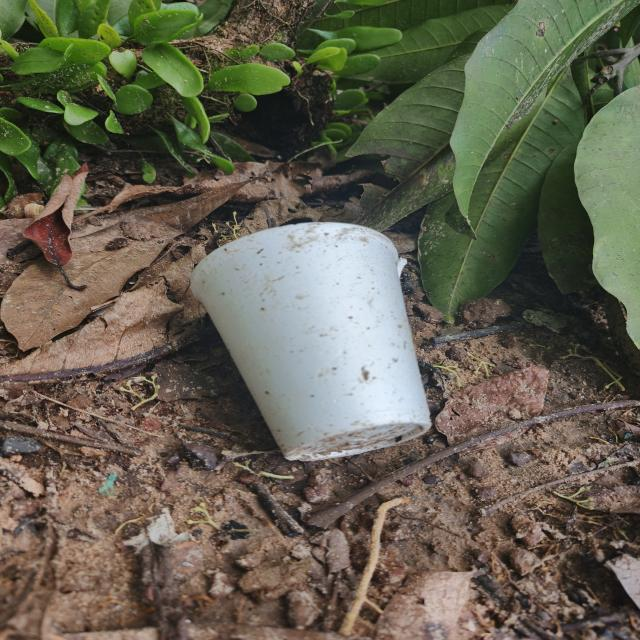plastic: (166, 210, 458, 494)
